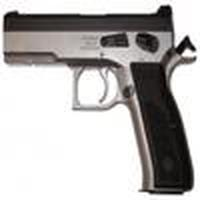gun: (2, 6, 200, 198)
